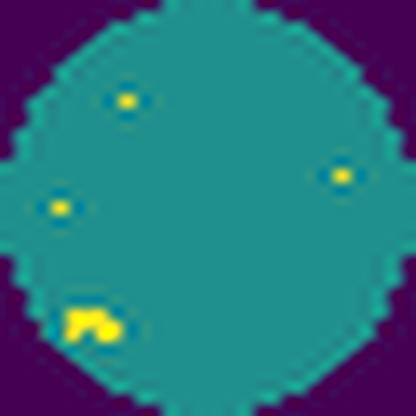Loc: (60, 306, 123, 343)
